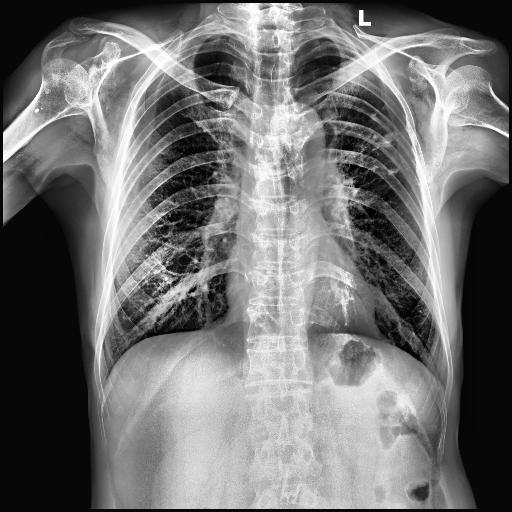0- Aortic enlargement: (270, 100, 328, 164), (269, 104, 326, 157)
13- Pulmonary fibrosis: (360, 112, 412, 178), (364, 110, 406, 176), (365, 112, 405, 176)
